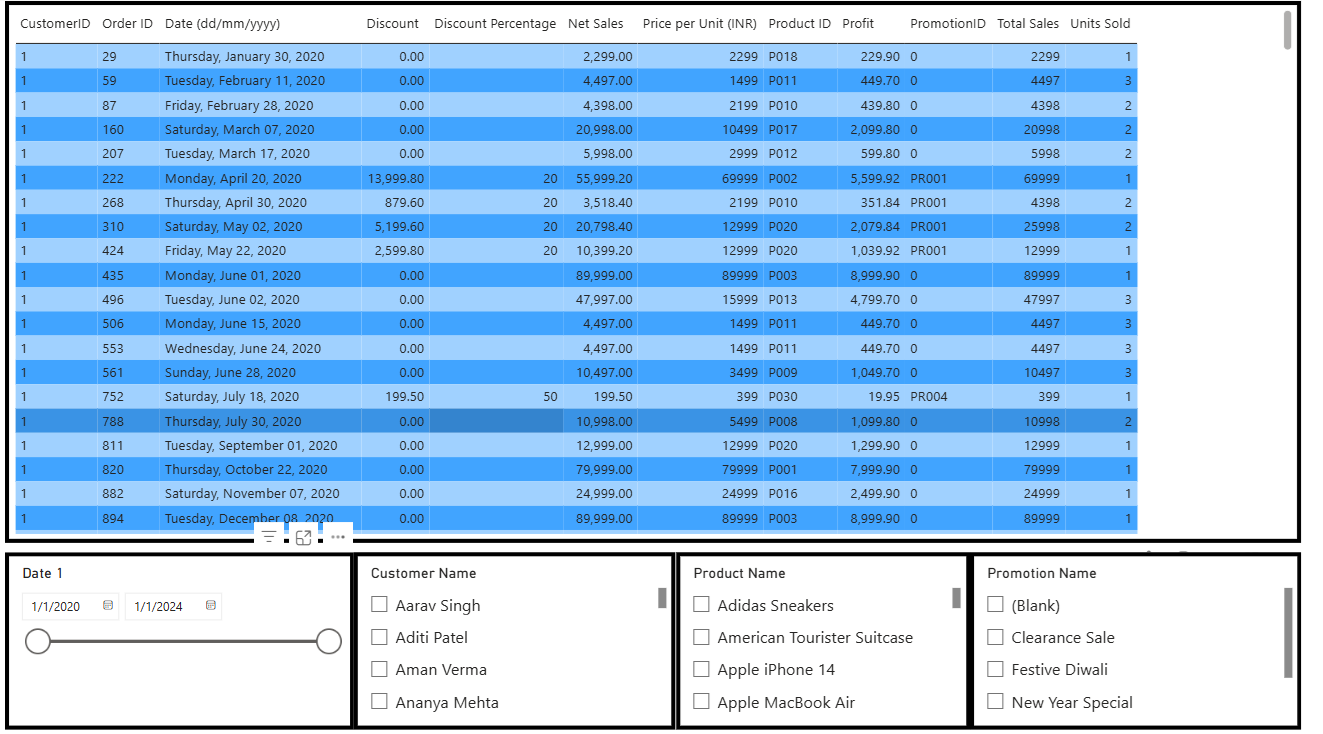

What the dashboard file says about the page in this screenshot:
{"tool":"powerbi","page":{"name":"Total Filters","canvas":[1280,720],"ordinal":4},"visuals":[{"type":"tableEx","fields":{"Values":["Fact Table.CustomerID","Fact Table.Order ID","Fact Table.Date (dd/mm/yyyy)","Fact Table.Discount Value","Fact Table.Discount Percentage","Fact Table.Net Sales","Fact Table.Price per Unit (INR)","Fact Table.Product ID","Fact Table.Profit","Fact Table.PromotionID","Fact Table.Total Sales ","Fact Table.Units Sold"]},"box":[0,0,1280,535],"z":0},{"type":"slicer","fields":{"Values":["Fact Table.Date (dd/mm/yyyy)"]},"box":[0,545,345,175],"z":1000},{"type":"slicer","fields":{"Values":["Dim Customers.Customer Name"]},"box":[345,545,317.5,175],"z":2000},{"type":"slicer","fields":{"Values":["Dim Product.Product Name"]},"box":[662.5,545,290,175],"z":3000},{"type":"slicer","fields":{"Values":["Dim Promotion.Promotion Name"]},"box":[952.5,545,327.5,175],"z":4000}]}

Visuals, with their boxes in screenshot pixels (x1, y1, x2, y2), scaled from the page's 1280x720 canvas onto the 1323x734 screenshot:
tableEx - Fact Table.CustomerID x Fact Table.Order ID: crop(0, 0, 1322, 545)
slicer - Fact Table.Date (dd/mm/yyyy): crop(0, 556, 357, 733)
slicer - Dim Customers.Customer Name: crop(357, 556, 685, 733)
slicer - Dim Product.Product Name: crop(685, 556, 984, 733)
slicer - Dim Promotion.Promotion Name: crop(984, 556, 1322, 733)
